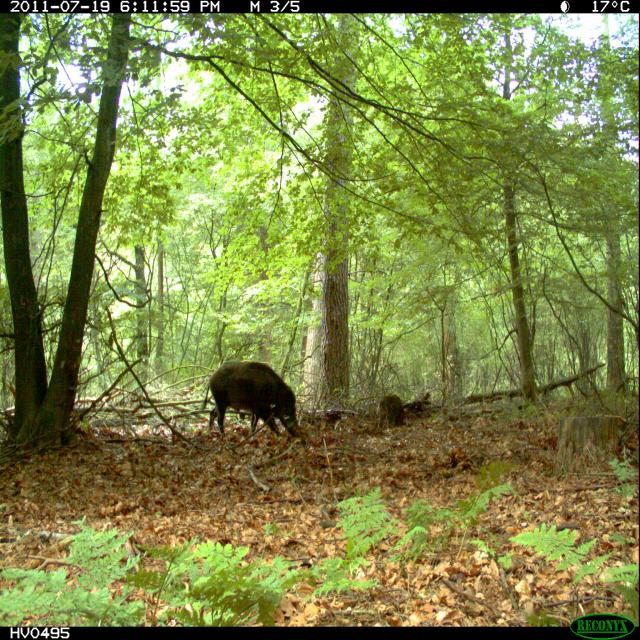boar: (192, 342, 305, 452)
